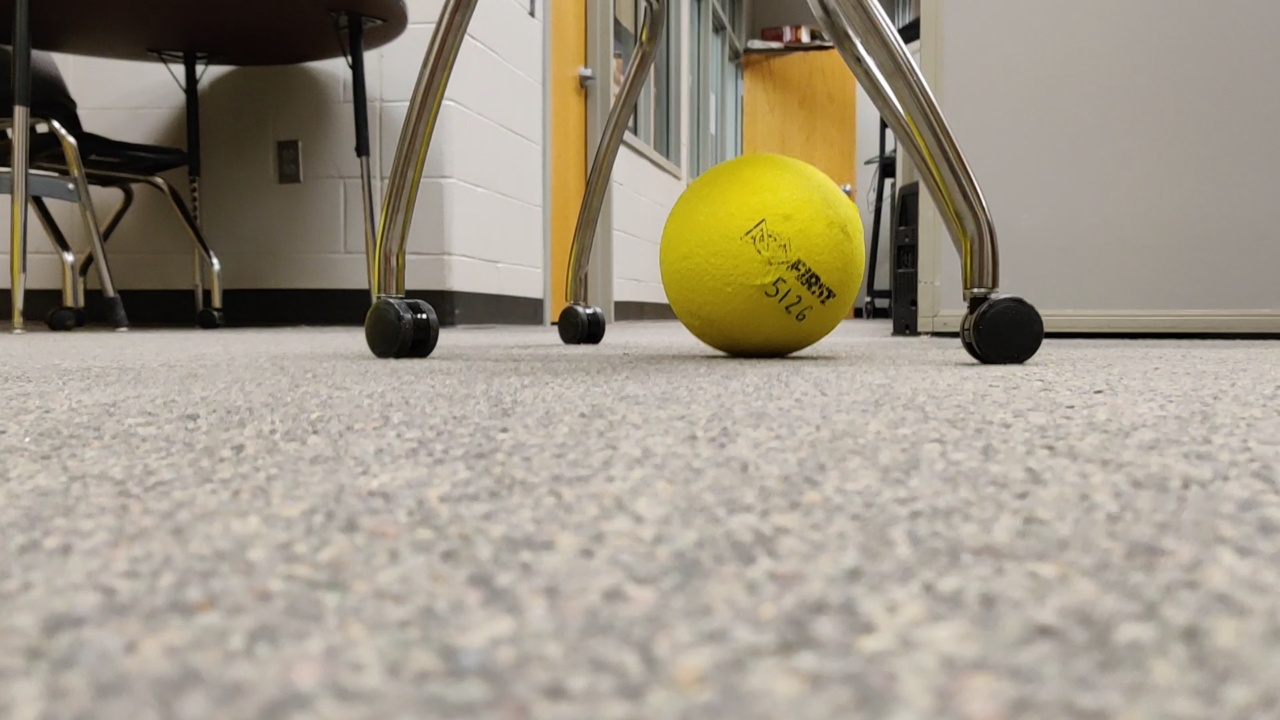Ball: (652, 149, 887, 355)
